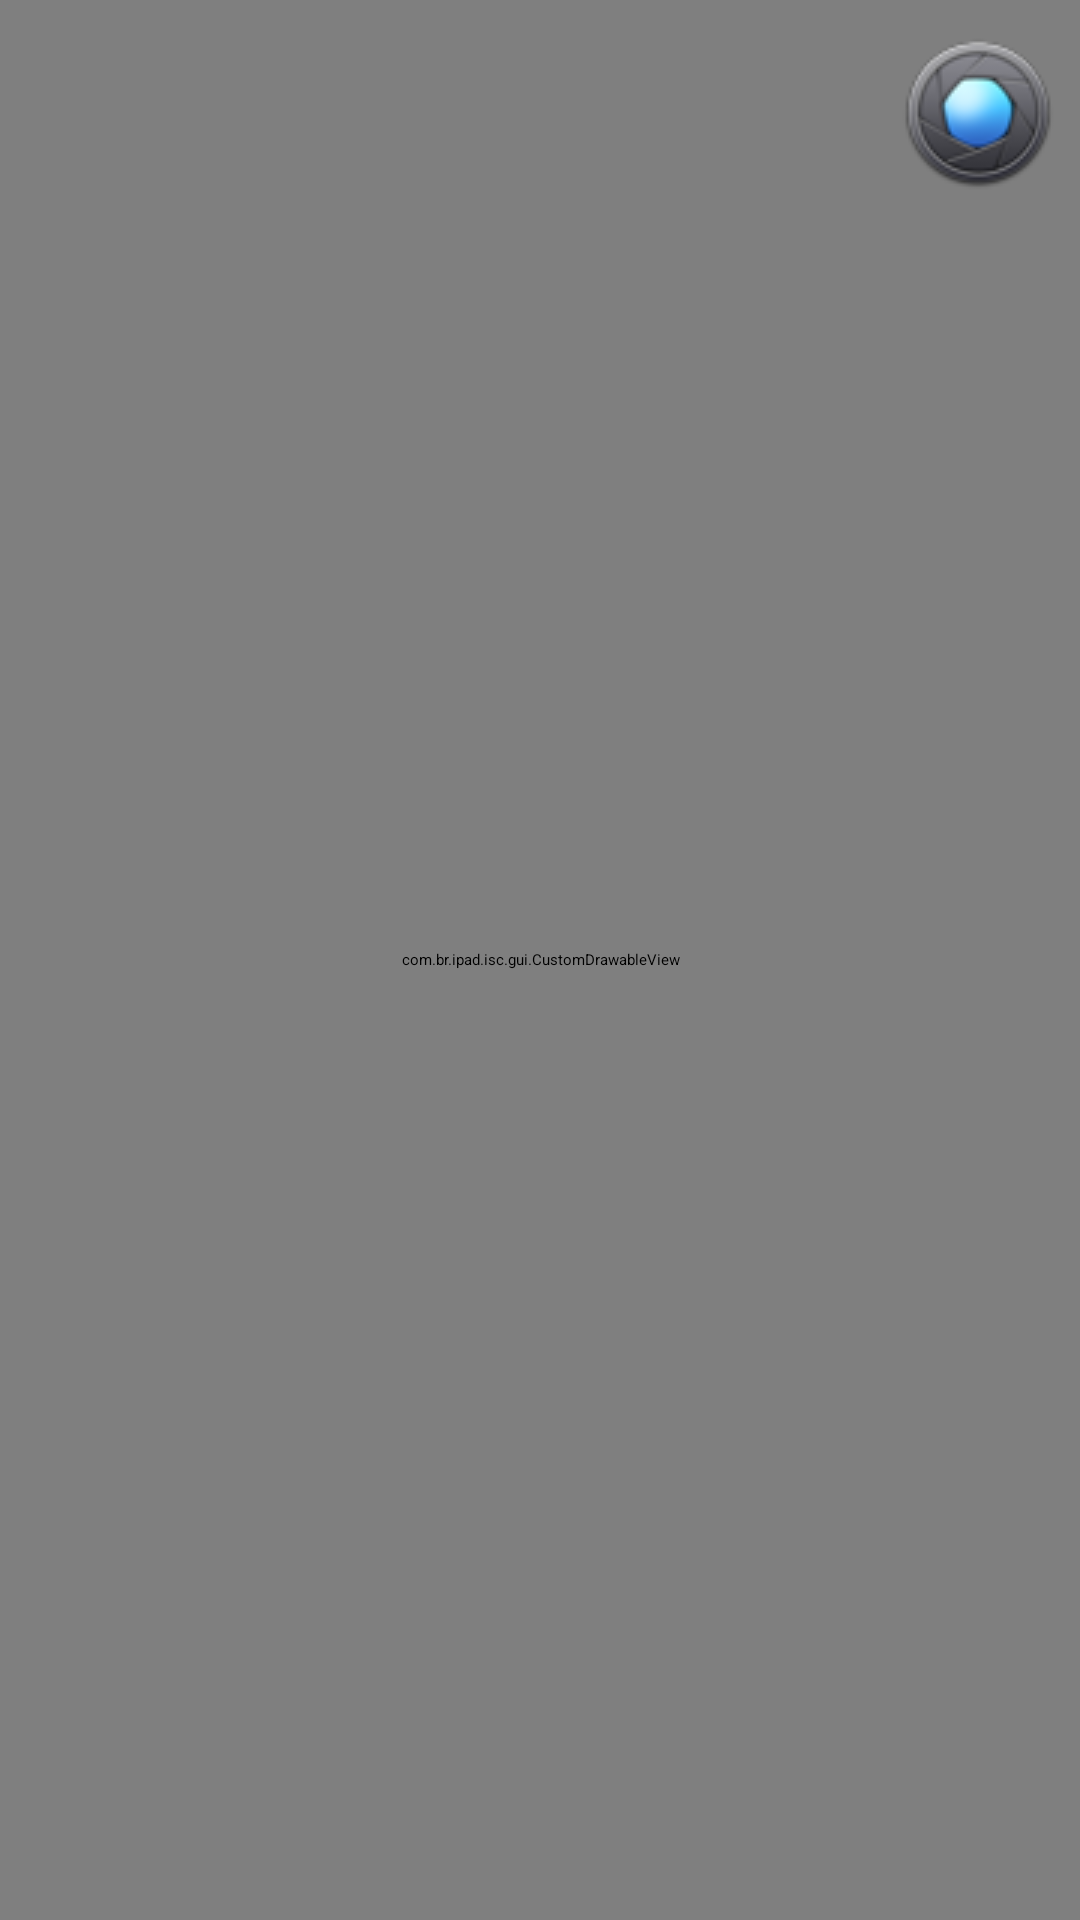

Screen size 1080×1920. Icon name, then its box in pixels as (x1,y1,x2,y2):
camerabt: (906,42,1050,186)
